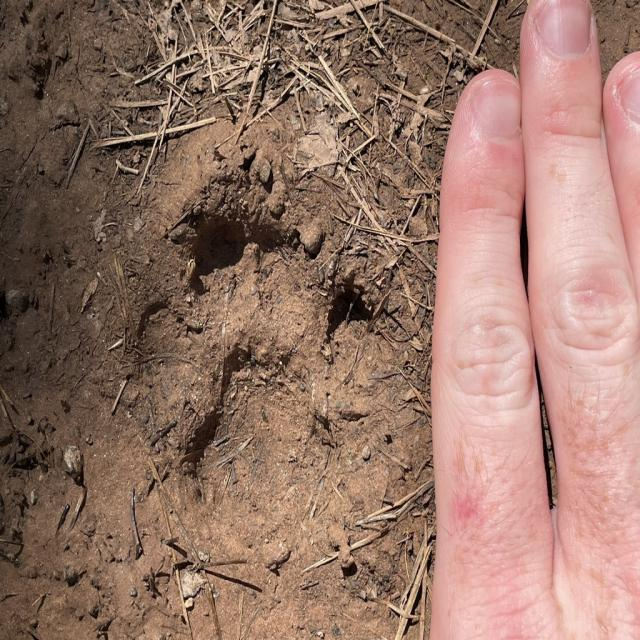felid: (146, 226, 370, 498)
